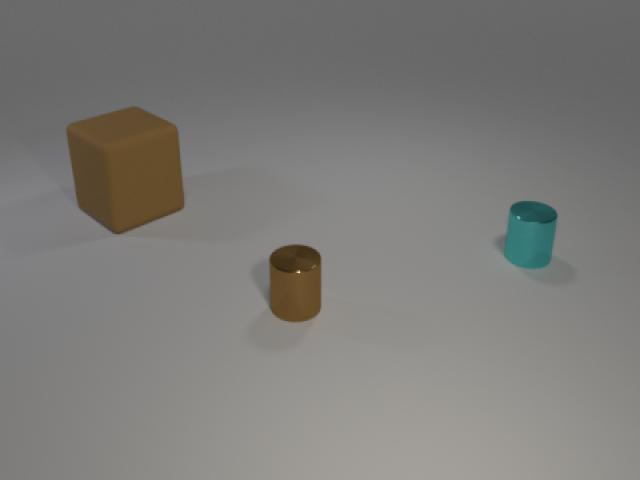cylinder: (263, 238, 327, 326), (499, 191, 562, 276)
